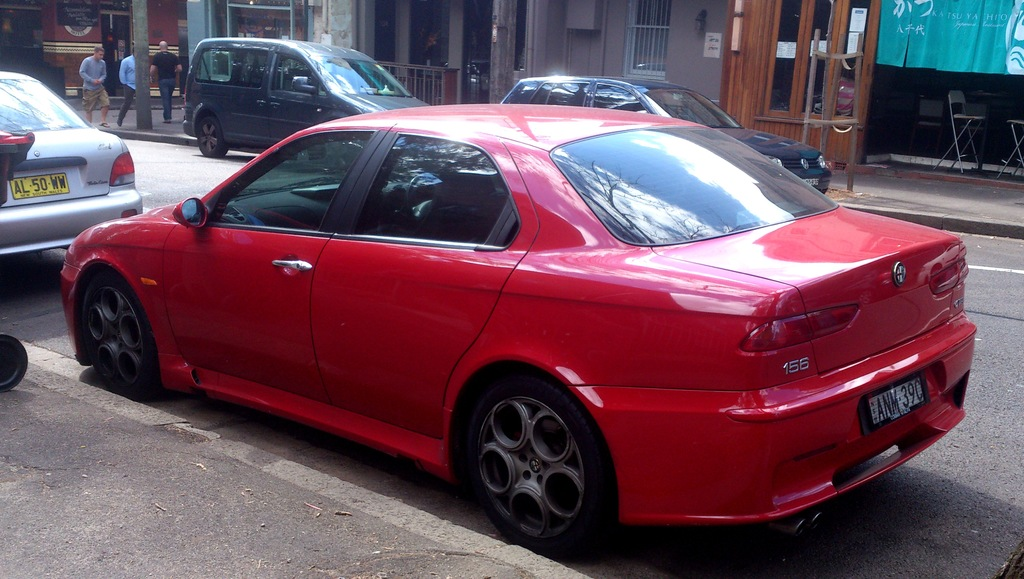license plate: (856, 395, 926, 428), (7, 179, 71, 202)
